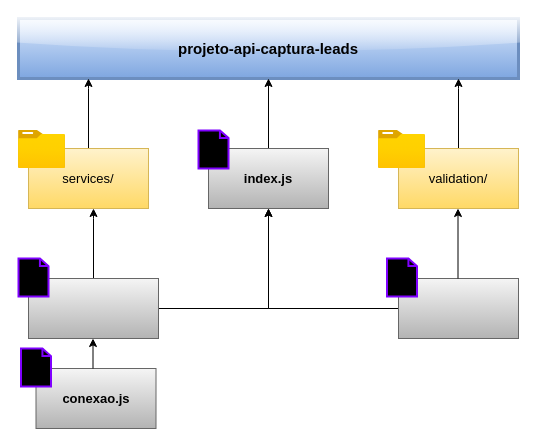
Some shapes in this 537 by 446 pixel diagram are drawn without their labels. The centre of each missing label's shape, as x and y in pixels:
"cadastro_servico.js" belongs at pixel 93 308.
"valida.js" belongs at pixel 458 308.
